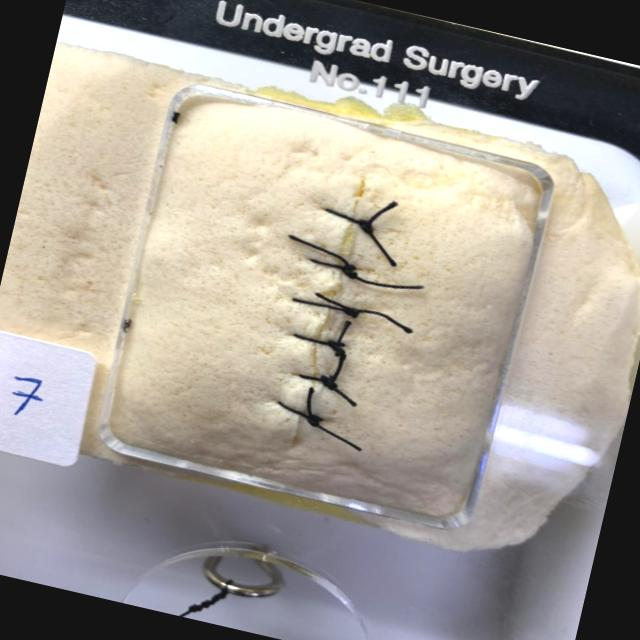knot: (320, 374, 336, 390), (327, 341, 344, 356), (341, 265, 357, 279), (358, 219, 372, 233), (342, 308, 358, 318), (308, 415, 321, 427)
leftover: (284, 232, 352, 274), (345, 308, 414, 333), (312, 419, 363, 452), (360, 223, 397, 267), (348, 270, 426, 289), (362, 199, 400, 228), (323, 378, 359, 408), (311, 290, 352, 314), (326, 351, 345, 383), (331, 317, 351, 347), (305, 384, 316, 422), (332, 342, 346, 361)
stitch: (288, 296, 360, 316), (320, 206, 374, 232), (274, 399, 321, 425), (306, 256, 359, 277), (289, 332, 343, 349), (295, 373, 336, 384)
wound: (287, 172, 367, 447)
